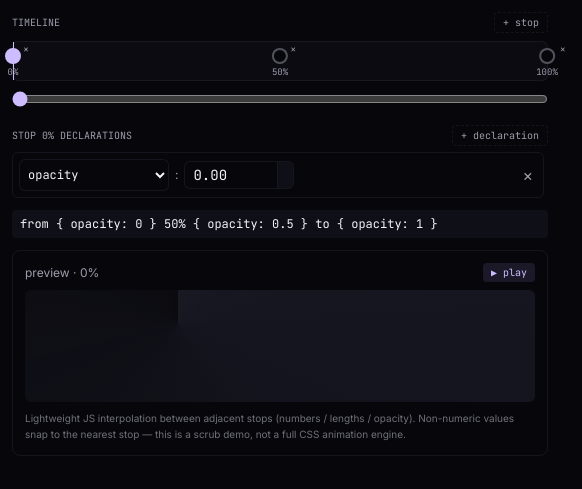
Test case: KeyframesEditorPanel — stop add/remove edge branches › adding a stop picks the first free percent when 50% is taken
Click the button with aria-label "Add stop" at (521,22), box [494,12,548,33]
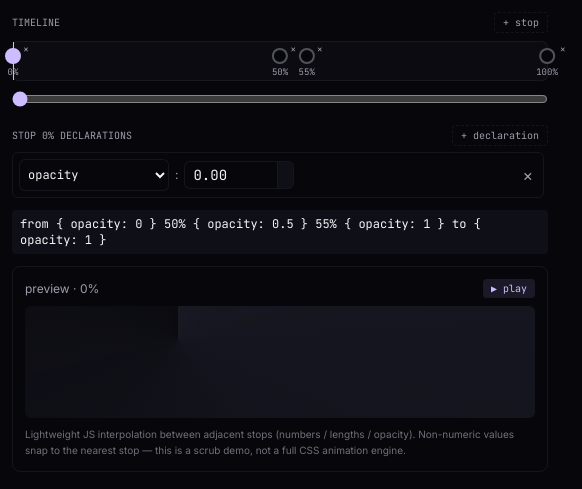
Expected: the text "55%" is shown, [299,66,315,80]
